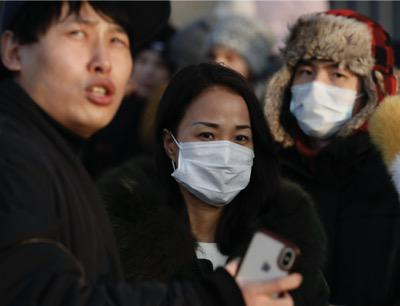with_mask: (171, 116, 255, 209), (288, 60, 363, 137)
without_mask: (20, 16, 132, 135)
